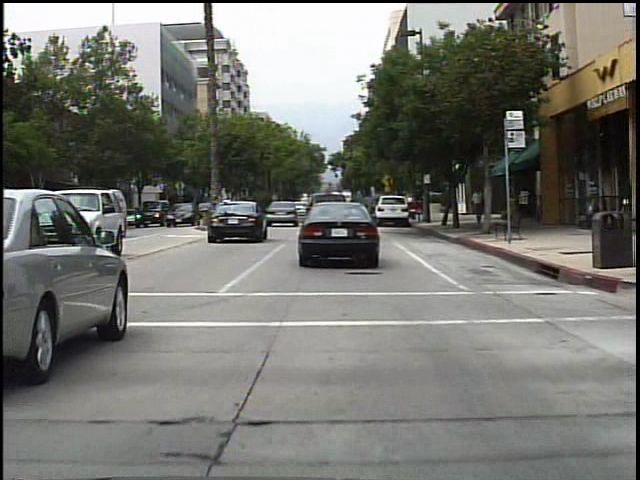person: (469, 186, 490, 230)
